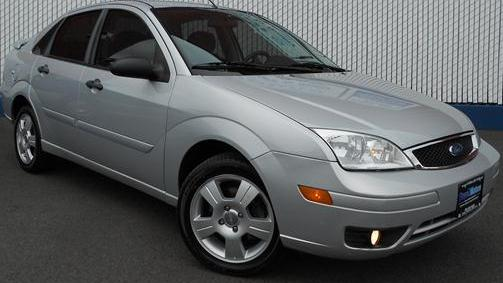front_view: (288, 92, 502, 250)
headlight: (315, 127, 428, 184)
side_glass: (45, 9, 182, 83)
